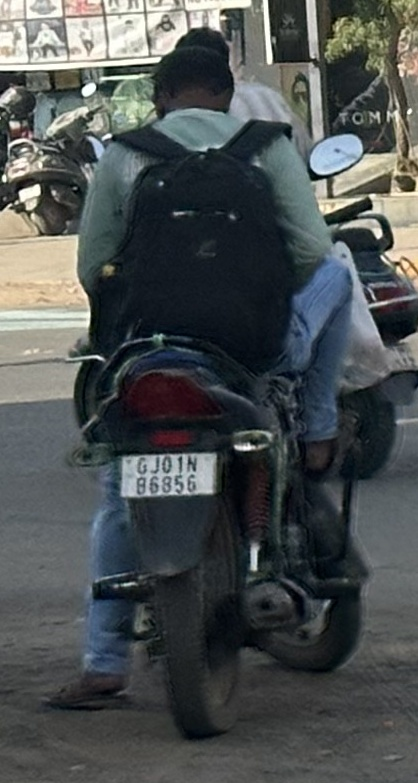BikeWithRider: (33, 46, 367, 740)
NoHelmet: (147, 47, 236, 122)
